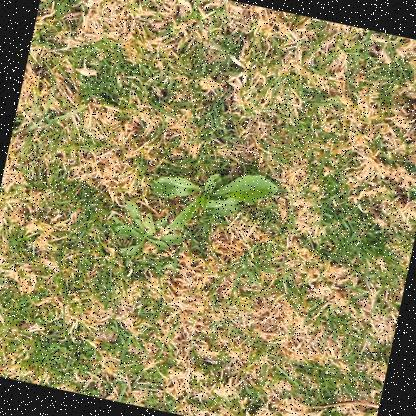Weeds: (141, 152, 282, 250), (105, 198, 189, 267)
